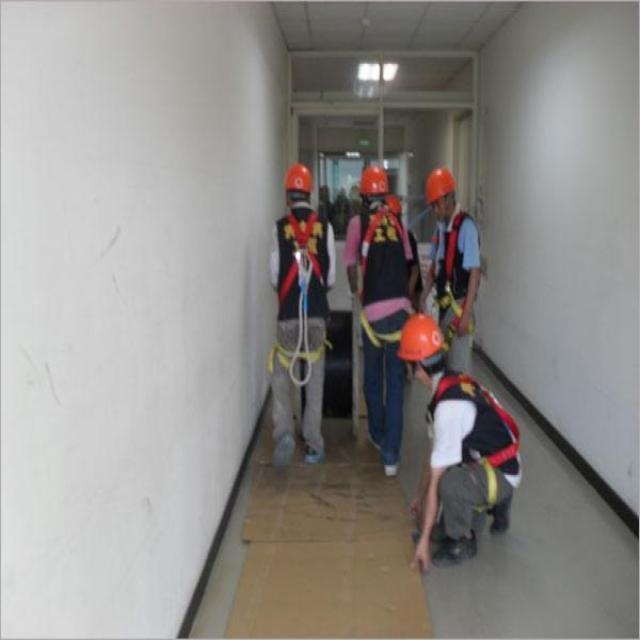Arnes_seguridad: (426, 360, 523, 502), (429, 204, 484, 319), (277, 206, 326, 307), (357, 199, 408, 290)
